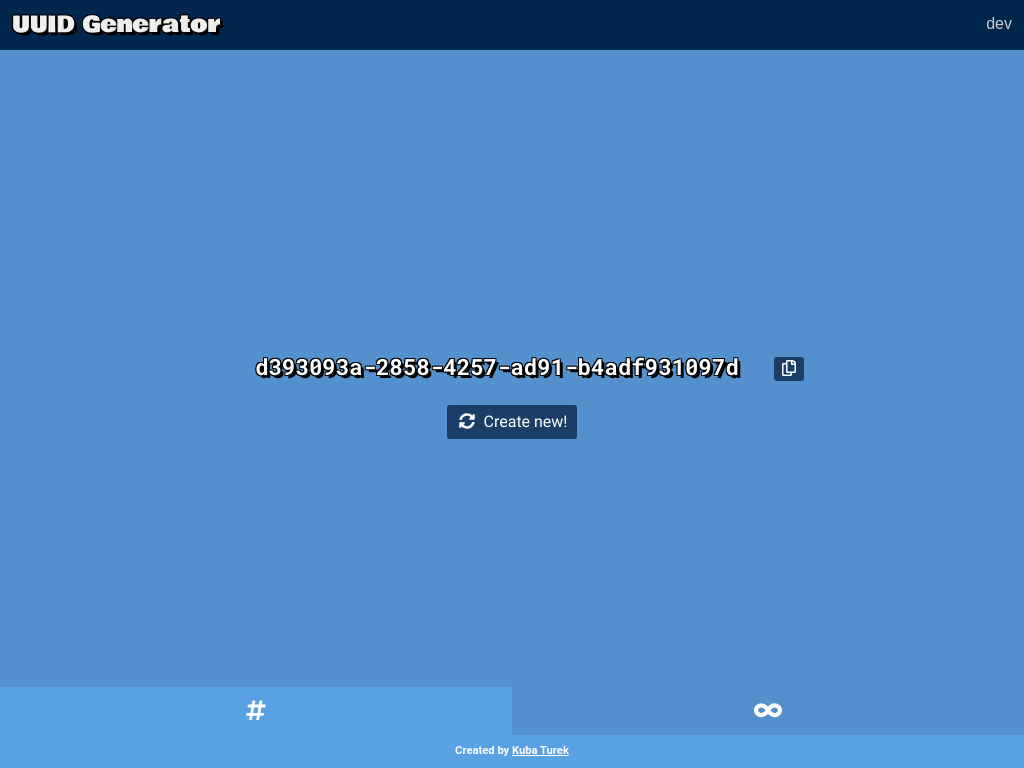
Scenario: Multi UUID generation › should generate uuids separated by commas and new lines
Click the button with test id "multi-mode-switcher": {"x": 768, "y": 712} [512,687,1023,737]
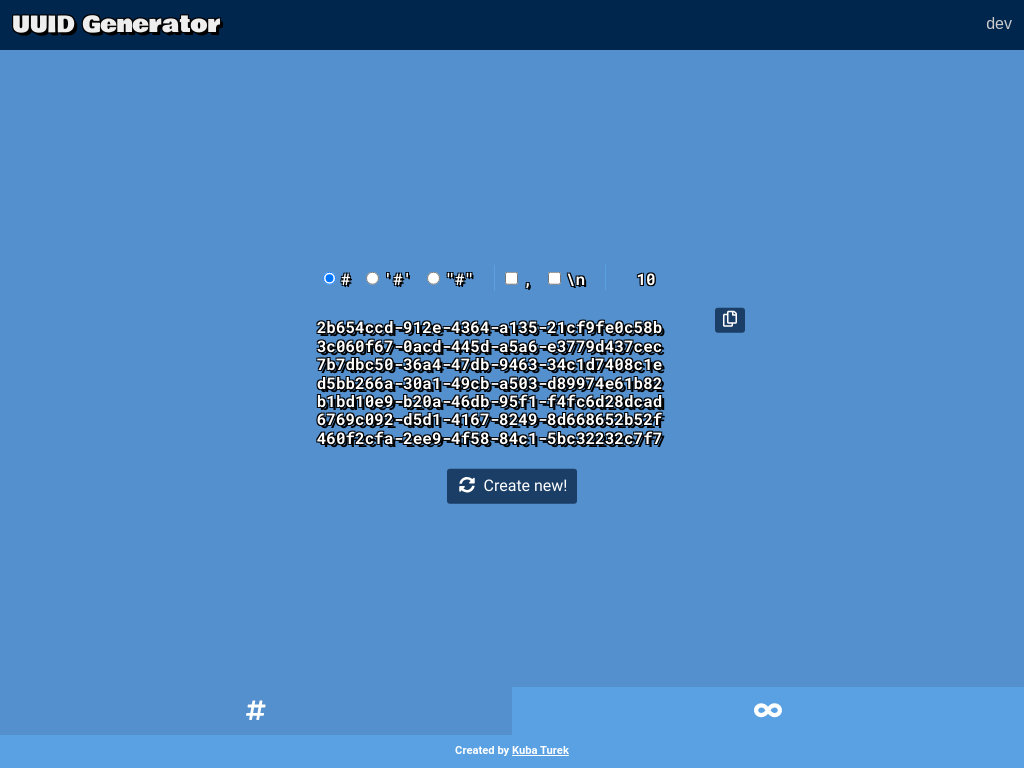
Check the checkbox with test id "checkbox_comma": {"x": 512, "y": 279} [505,272,518,285]
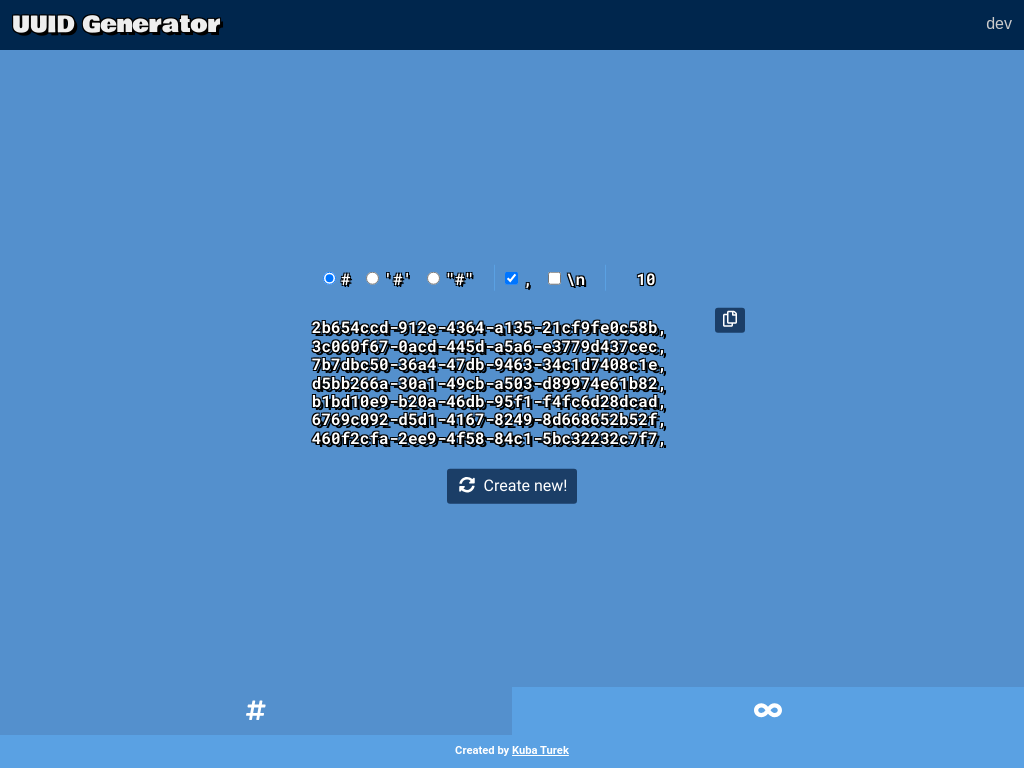
Result: the text box with test id "multi-uuid-value" holds "([0-9a-f\\-]+,\\s){9}([0-9a-f\\-]+)" at [285,308,695,448]
Check the checkbox with test id "checkbox_newline": {"x": 555, "y": 279} [548,272,561,285]
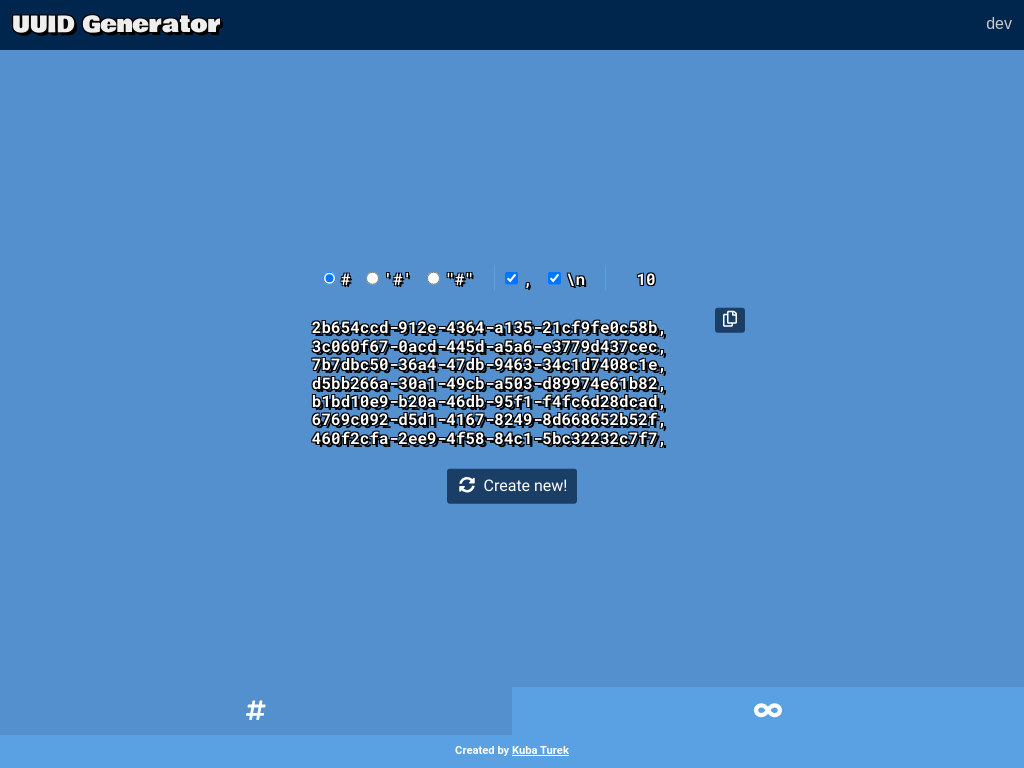
Expected: the text box with test id "multi-uuid-value" holds "([0-9a-f\\-]+,\\n){9}([0-9a-f\\-]+)", [285,308,695,448]
Uncheck the checkbox with test id "checkbox_comma": {"x": 512, "y": 279} [505,272,518,285]
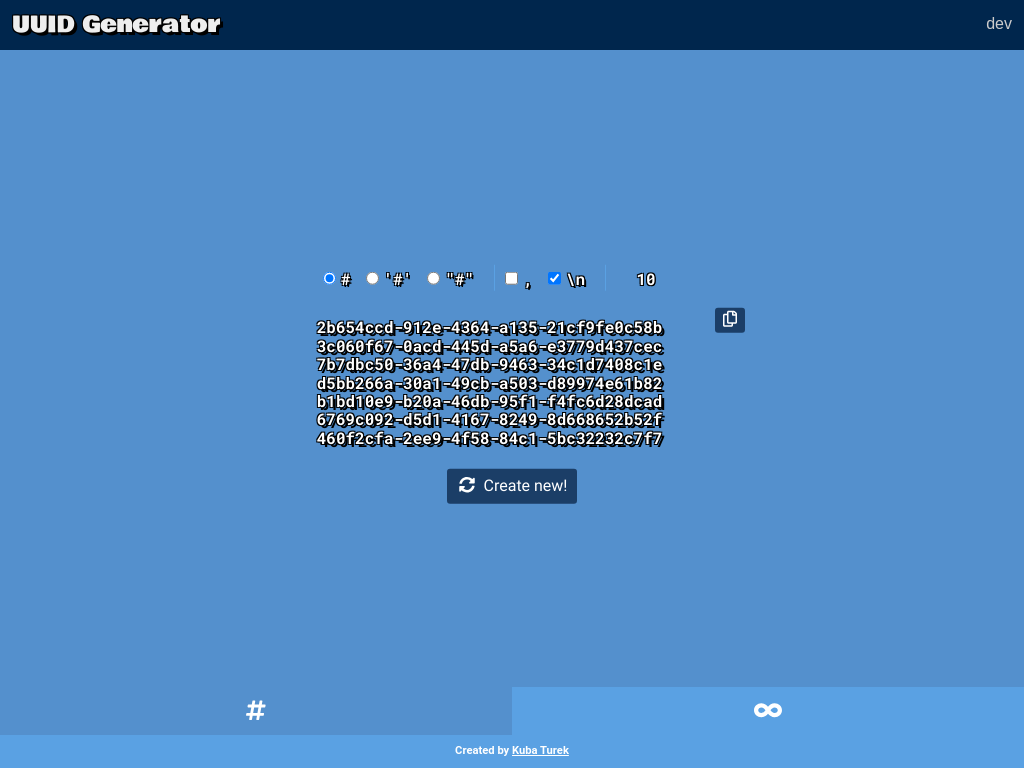
Result: the text box with test id "multi-uuid-value" holds "([0-9a-f\\-]+\\n){9}([0-9a-f\\-]+)" at [285,308,695,448]
